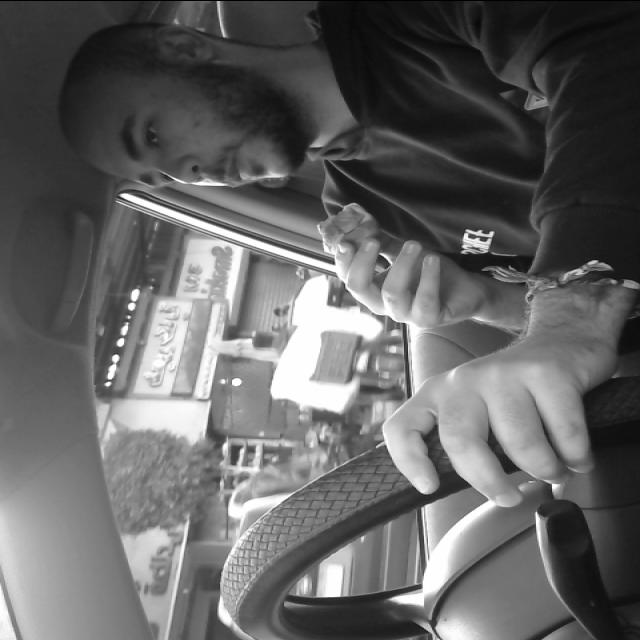eating: (302, 195, 395, 268)
